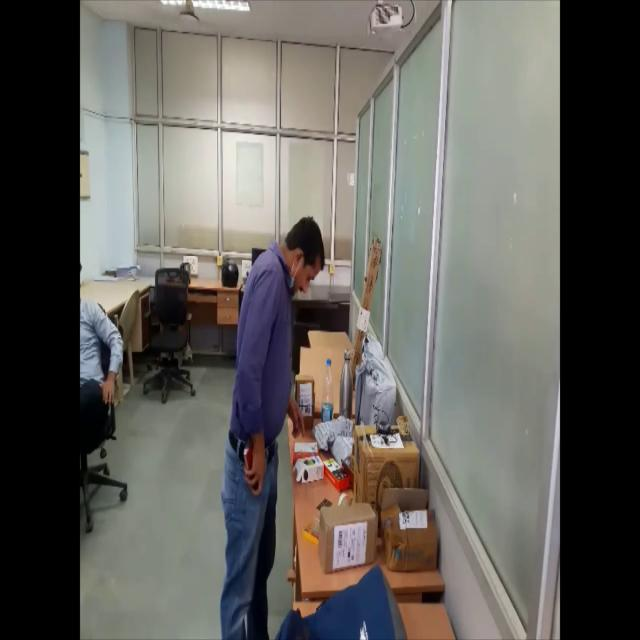shoplifting: (217, 187, 329, 640)
